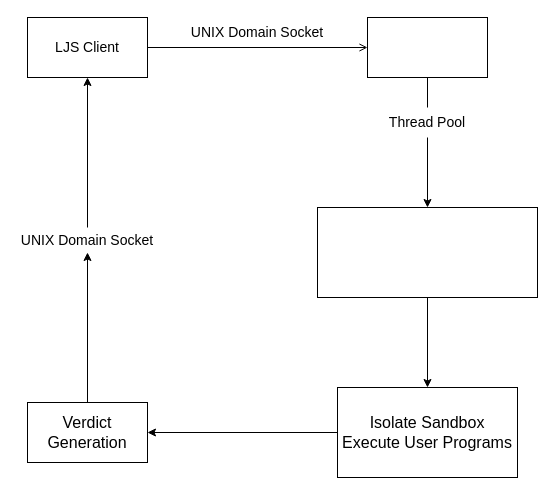
Image size: 555x495. Some labels were removed from this diagram. The shapes that lost their labels are listed below. From the top down, each one's centre as x and y in pixels, then its label:
At [427,47]: "Persistent LJS Server".
At [427,252]: "Compile Program (g++) Enforcing Strict Resource Limits".
